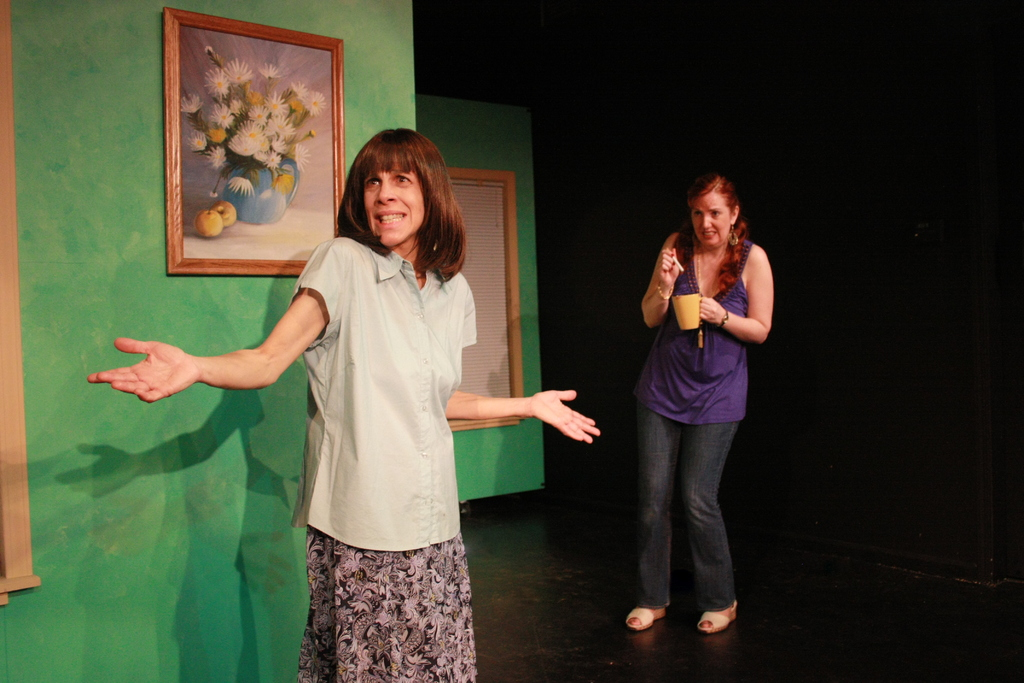Human_hand: (86, 326, 220, 402), (529, 389, 603, 449), (657, 245, 683, 292), (699, 294, 724, 328)
